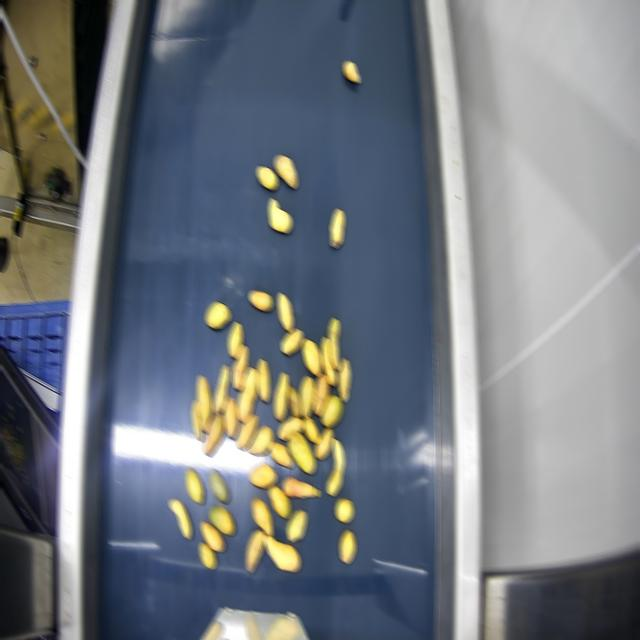Baby Potato: (264, 536, 299, 571), (288, 432, 315, 473), (238, 368, 257, 422), (328, 438, 345, 495), (197, 376, 212, 431), (204, 414, 224, 455), (170, 499, 191, 538), (252, 497, 272, 535), (274, 155, 297, 187), (269, 199, 291, 232), (247, 426, 272, 455), (210, 505, 234, 535), (214, 365, 229, 413), (247, 529, 264, 571), (269, 485, 290, 518), (236, 415, 257, 448), (321, 338, 336, 384), (232, 344, 247, 390), (200, 521, 223, 551), (302, 339, 321, 375), (283, 477, 319, 496), (321, 394, 342, 426), (223, 396, 238, 438), (209, 470, 228, 503), (313, 374, 328, 415), (275, 372, 288, 419), (278, 416, 303, 440), (299, 376, 314, 416), (186, 468, 203, 503), (287, 510, 306, 541), (206, 302, 229, 327), (269, 442, 292, 467), (277, 293, 292, 331), (328, 318, 339, 368), (250, 465, 275, 487), (281, 328, 302, 354), (315, 428, 332, 459), (339, 529, 354, 563), (249, 290, 272, 311), (332, 208, 344, 247), (258, 359, 269, 401), (230, 321, 242, 358), (257, 166, 276, 189), (287, 385, 301, 416), (340, 358, 350, 400), (192, 401, 203, 439), (336, 498, 353, 522), (303, 416, 318, 442), (200, 543, 215, 568), (345, 61, 359, 82)
